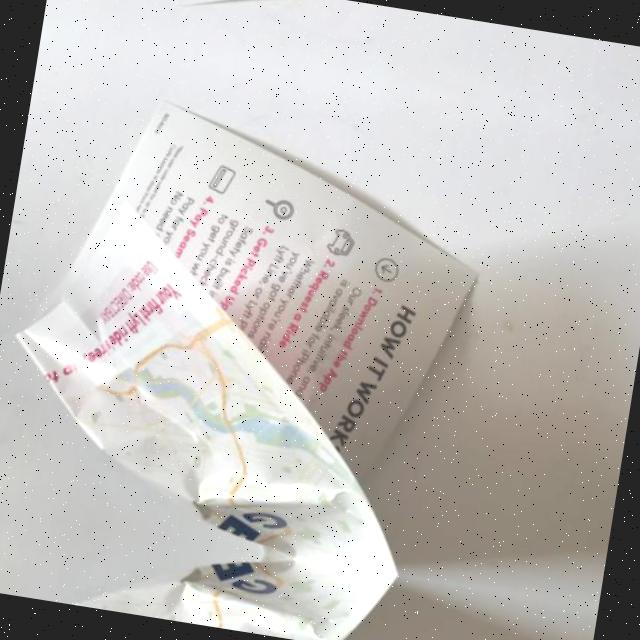paper: (0, 84, 571, 592), (0, 509, 503, 640), (63, 0, 591, 67)
